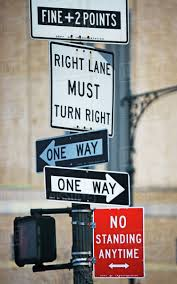oneWay: (43, 166, 131, 208), (35, 127, 112, 172)
rightLaneMustTurn: (50, 39, 116, 135)
